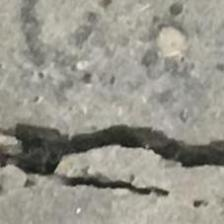Crack: (0, 109, 224, 204)
